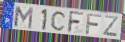1: (41, 8, 49, 31)
C: (50, 10, 68, 33)
F: (66, 10, 85, 34), (85, 13, 103, 36)
M: (13, 5, 34, 30)
Z: (103, 15, 120, 39)
